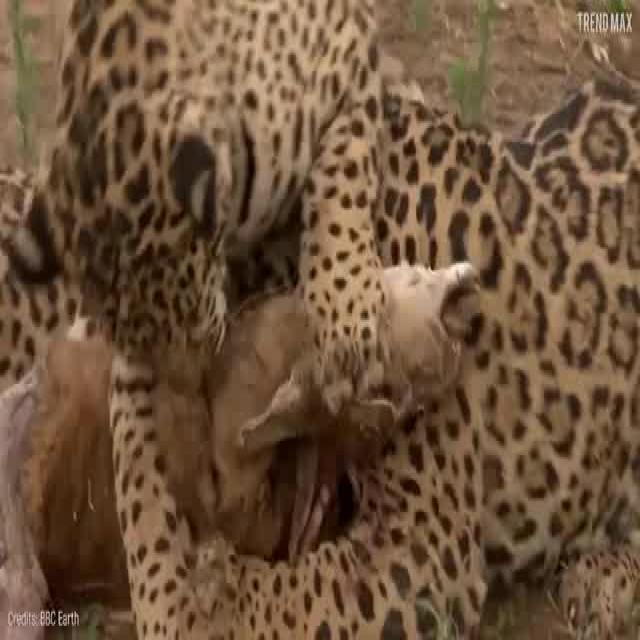Jaguar: (196, 83, 640, 640), (4, 0, 387, 640)
